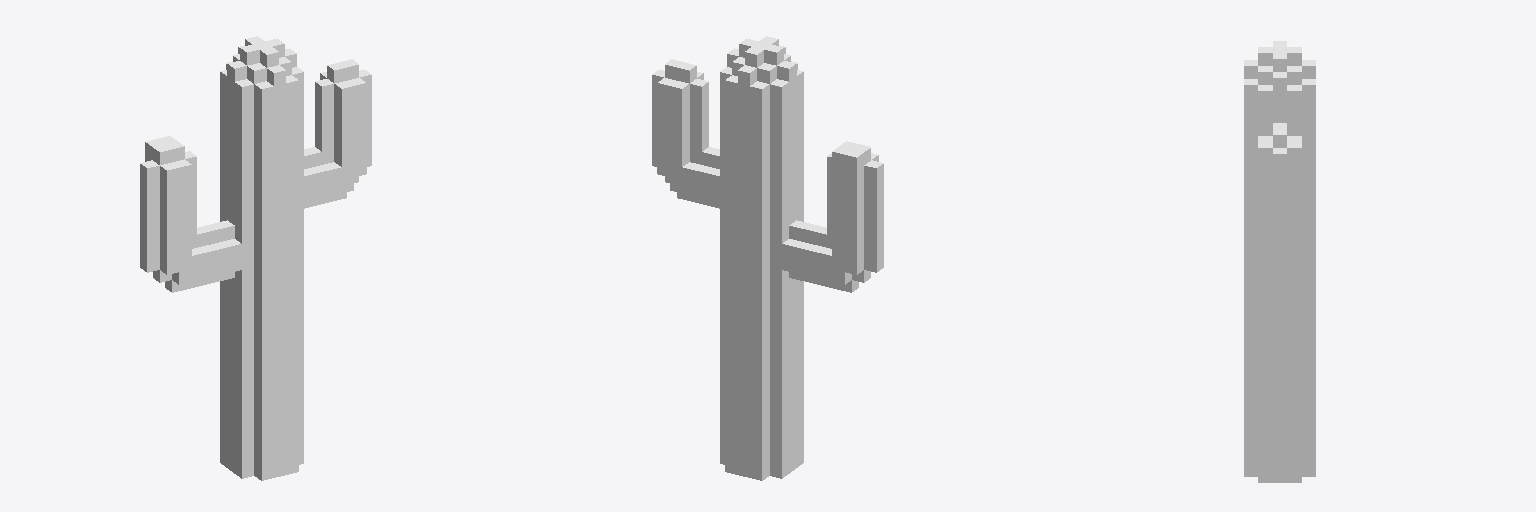
File: cactus_v1.obj
3 renders of one model, left to right at view 1: azimuth 30°, elevation 25°; view 2: azimuth 150°, elevation 25°; view 3: azimuth 270°, elevation 25°, orthographic.
Visible parts, largest first — view 1: cactus_v1; view 2: cactus_v1; view 3: cactus_v1.
Part boxes in pixels (x1,y1,x2,y2): cactus_v1: (140, 36, 371, 480); cactus_v1: (652, 36, 883, 480); cactus_v1: (1244, 41, 1315, 482).
Bounding box in the file's own units: 18 × 32 × 5.